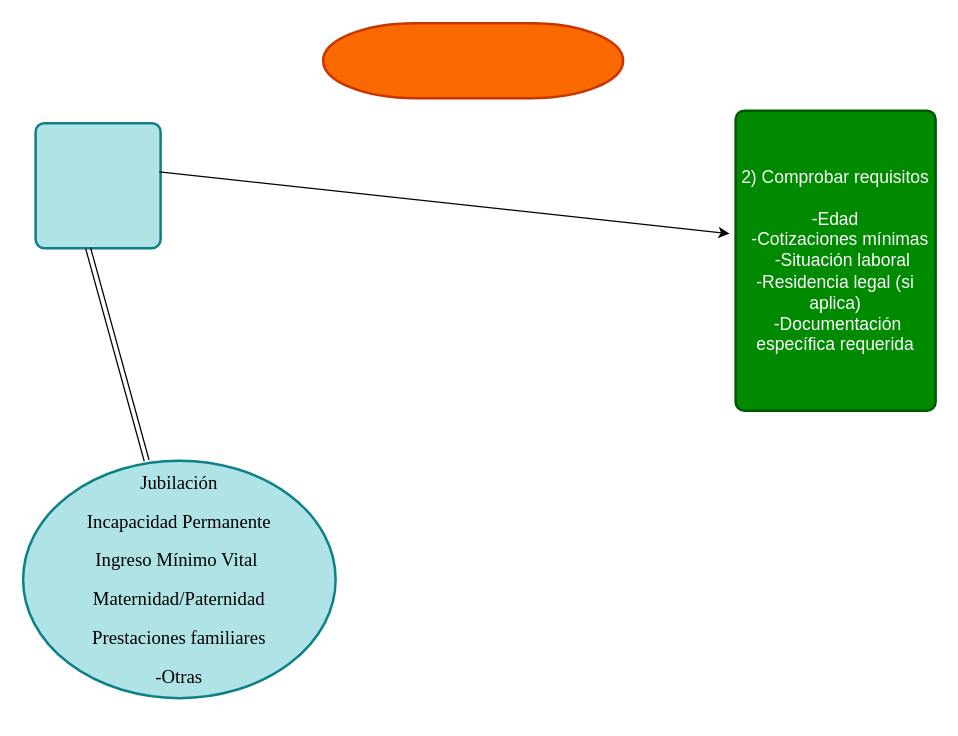
This 958x736 diagram has some shape labels left out. Each missing label, with the centre of its shape:
"1) Identificar la prestación a solicitar" belongs at point (97, 185).
"Cómo tramitar una prestación a la SS." belongs at point (472, 60).
